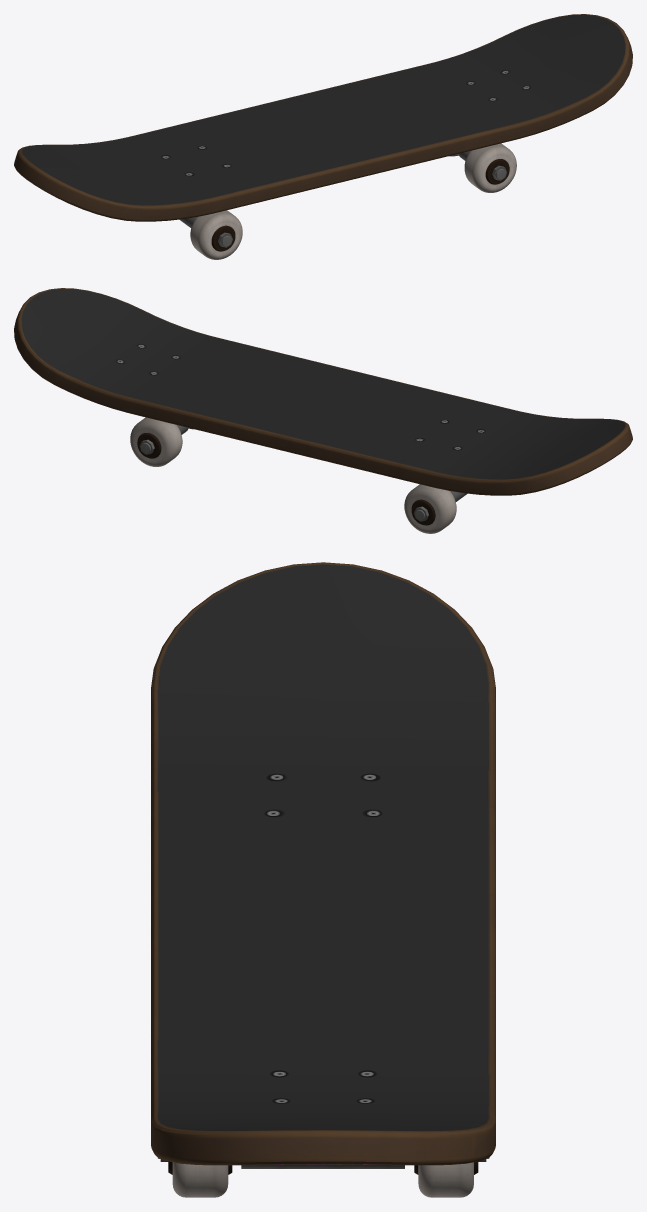
Rendered from skateboards.glb.
3 renders of one model, top to bottom at view 1: azimuth 30°, elevation 25°; view 2: azimuth 150°, elevation 25°; view 3: azimuth 270°, elevation 25°, orthographic. The views are drawn at different scales.
Visible parts, largest first — view 1: Skateboards_Low_2; view 2: Skateboards_Low_2; view 3: Skateboards_Low_2.
Boxes of the visible parts, x1,y1,x2,y2 form: Skateboards_Low_2: (14, 14, 632, 259); Skateboards_Low_2: (14, 288, 632, 533); Skateboards_Low_2: (151, 562, 495, 1197).
Bounding box in the file's own units: 0.7954 × 0.1361 × 0.2.
Materials: 1 (1 with a texture image).
